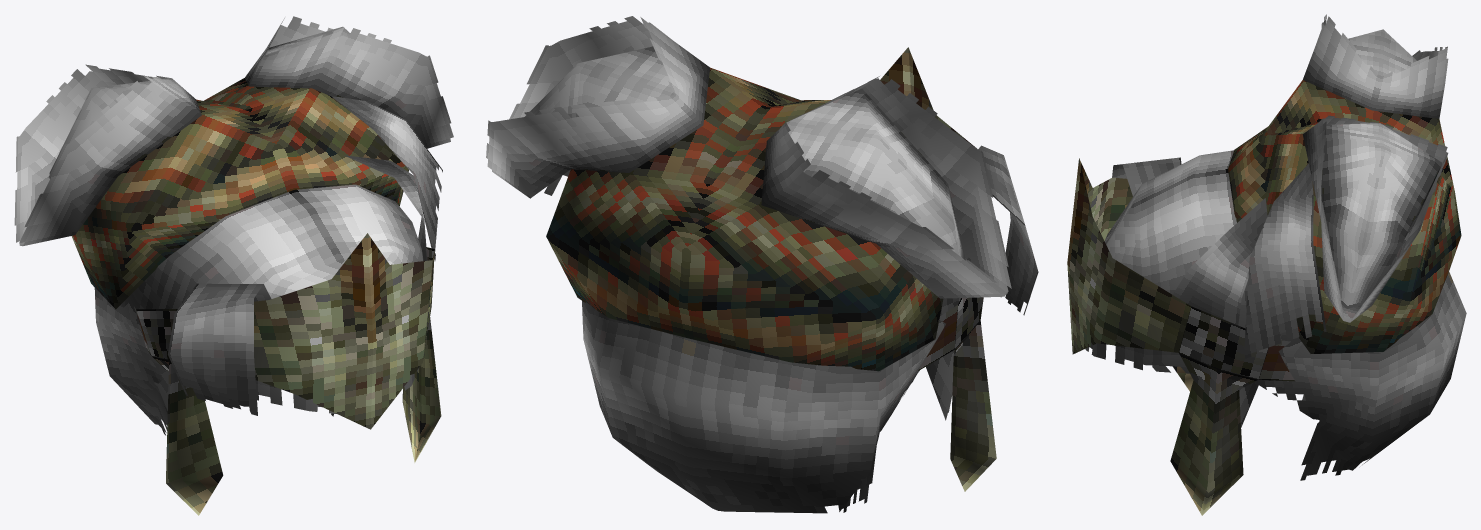
File: f_helmet031.obj
3 views of the same model, side by side, from view 1: azimuth 30°, elevation 25°; view 2: azimuth 150°, elevation 25°; view 3: azimuth 270°, elevation 25° (orthographic). The views are drawn at different scales.
Visible parts, largest first — view 1: mesh00, mesh01; view 2: mesh00, mesh01; view 3: mesh00, mesh01.
Part boxes in pixels (<box>): mesh00: <box>14,16,453,435</box>; mesh01: <box>71,78,441,515</box>; mesh00: <box>486,16,1038,513</box>; mesh01: <box>546,47,996,491</box>; mesh00: <box>1085,14,1466,480</box>; mesh01: <box>1067,80,1461,515</box>.
Size of the model in its own units: 32.07 by 27.23 by 24.75.
2 materials, 2 textured.
